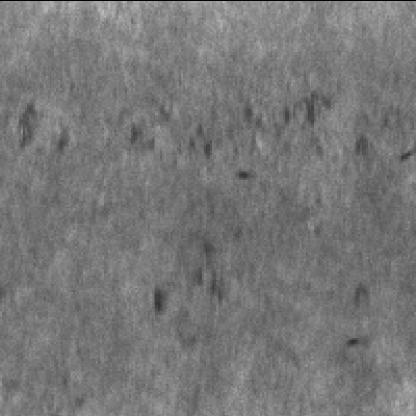rolled-in_scale: (15, 92, 345, 186), (135, 243, 260, 331)
